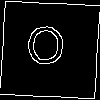O: (24, 25, 66, 74)
